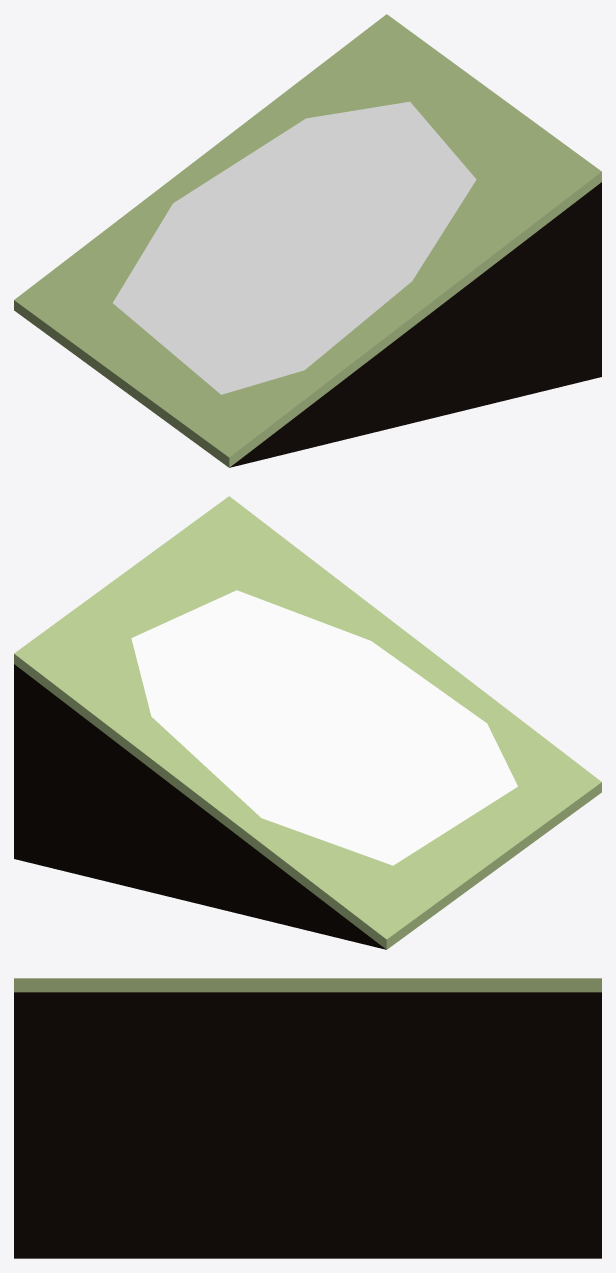
Rendered from filled.obj.
The picture shows the model from 3 angles, top to bottom: view 1: azimuth 30°, elevation 25°; view 2: azimuth 150°, elevation 25°; view 3: azimuth 270°, elevation 25°; orthographic projection. The views are drawn at different scales.
Parts seen in each view (by area): view 1: filled_Cube.006; view 2: filled_Cube.006; view 3: filled_Cube.006.
Part boxes in pixels (box(x1,y1,x2,y2)): filled_Cube.006: box(14, 14, 601, 467); filled_Cube.006: box(14, 496, 601, 949); filled_Cube.006: box(14, 978, 601, 1258).
Size of the model in its own units: 2 by 1.05 by 2.
